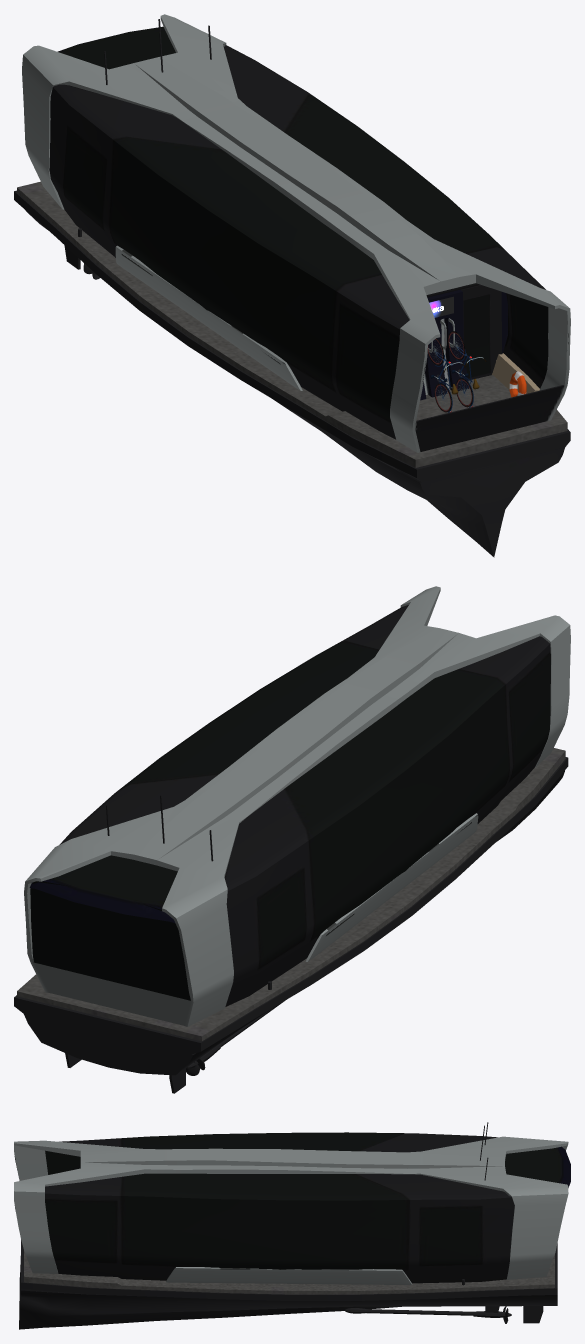
The picture shows the model from 3 angles, top to bottom: view 1: azimuth 30°, elevation 25°; view 2: azimuth 150°, elevation 25°; view 3: azimuth 270°, elevation 25°; orthographic projection. The views are drawn at different scales.
Parts seen in each view (by area): view 1: Boat, untitled, sinichka_v2.003; view 2: Boat; view 3: Boat.
Boxes of the visible parts, x1,y1,x2,y2 form: Boat: (14, 14, 570, 557); untitled: (427, 338, 464, 412); sinichka_v2.003: (448, 331, 486, 407); Boat: (14, 586, 570, 1093); Boat: (14, 1122, 570, 1329).
Bounding box in the file's own units: 0.1717 × 0.2128 × 0.5267.
